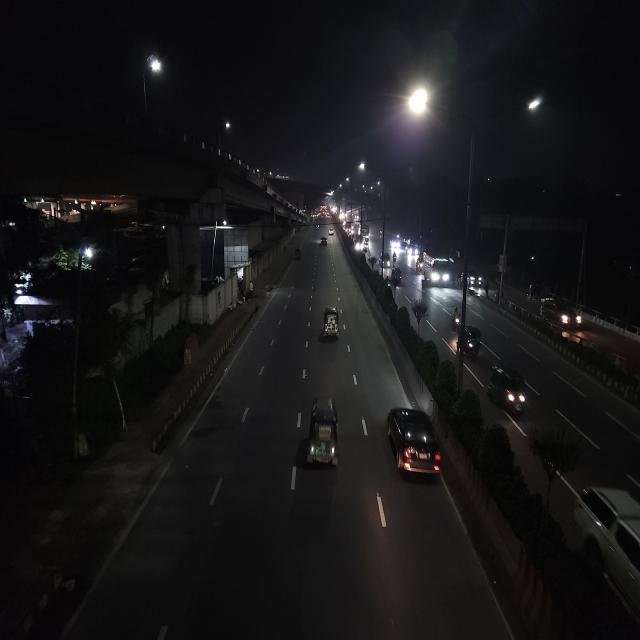bus: (424, 254, 452, 288)
car: (569, 471, 640, 636), (383, 401, 447, 489), (538, 296, 585, 334), (468, 272, 483, 286), (381, 252, 391, 269), (318, 237, 328, 249), (406, 245, 418, 255), (328, 226, 335, 239)
cng: (303, 392, 341, 474), (488, 361, 530, 418), (461, 327, 483, 363), (321, 304, 341, 342), (392, 266, 402, 286), (294, 248, 302, 262)
motorcycle: (452, 304, 461, 337), (392, 252, 398, 264)
pedestrian: (484, 280, 490, 300)
